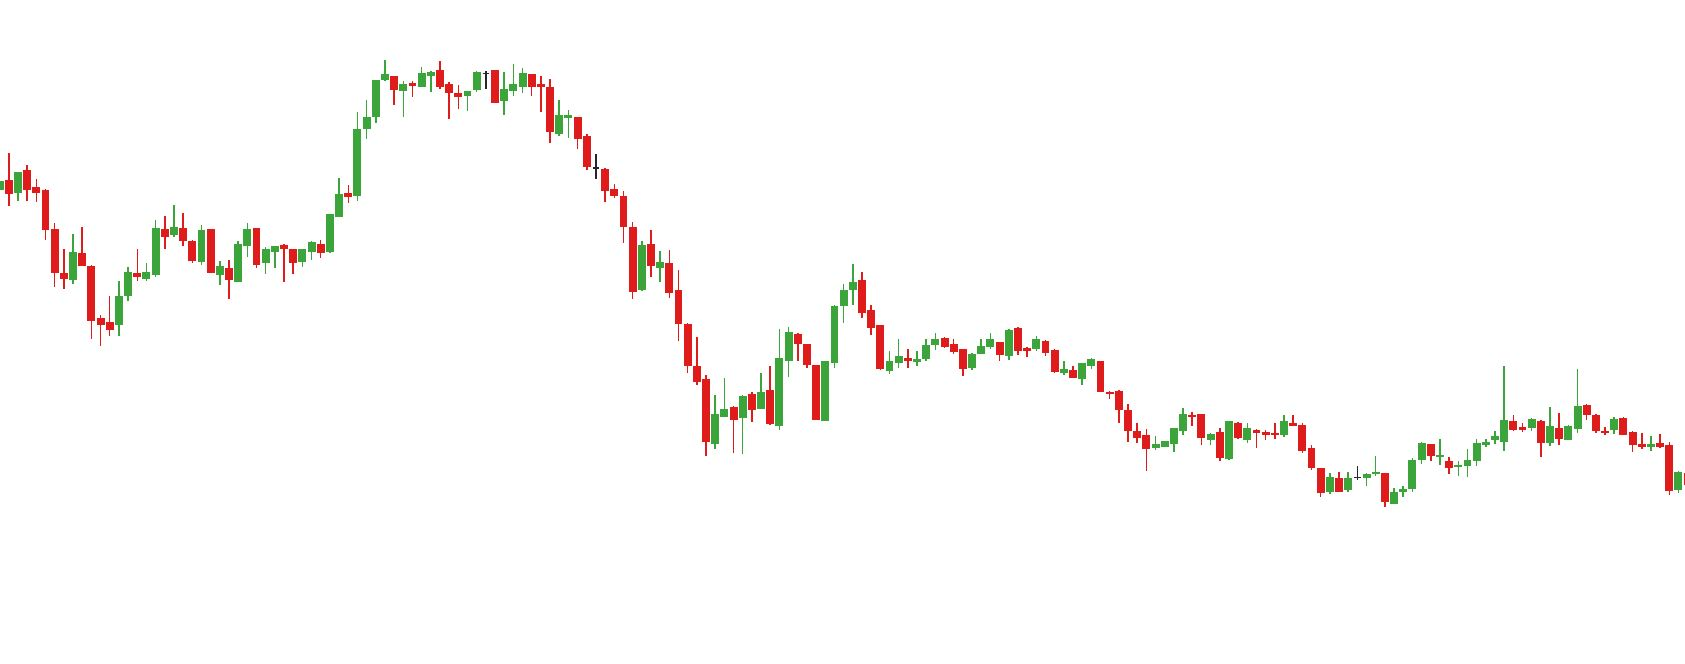buy: (48, 242, 133, 343)
